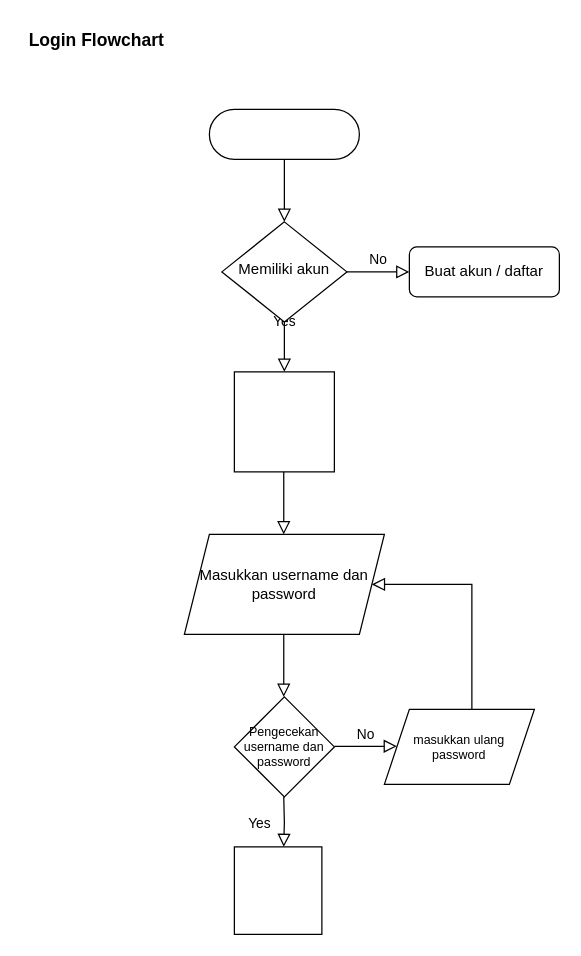
Some shapes in this 581 by 956 pixel diagram are drawn without their labels. The centre of each missing label's shape, as x and y in pixels:
"Login" belongs at [283,421].
"Masuk ke Home Page" belongs at [277,890].
"Mulai" belongs at [283,133].
